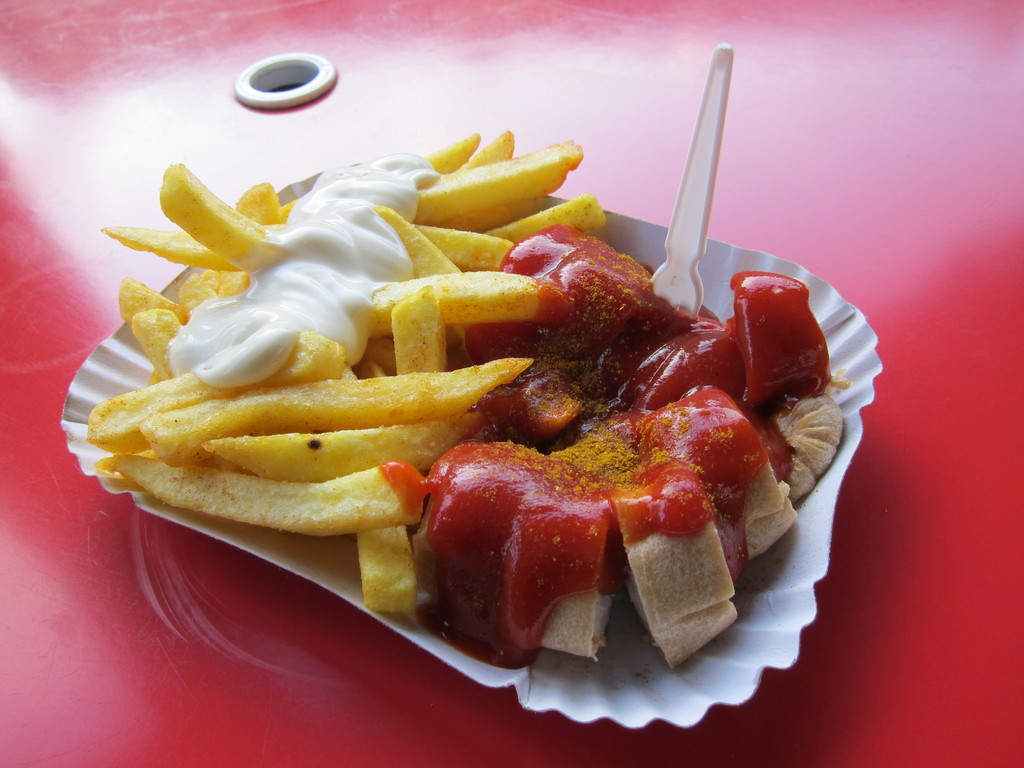French fries: (82, 193, 638, 592)
